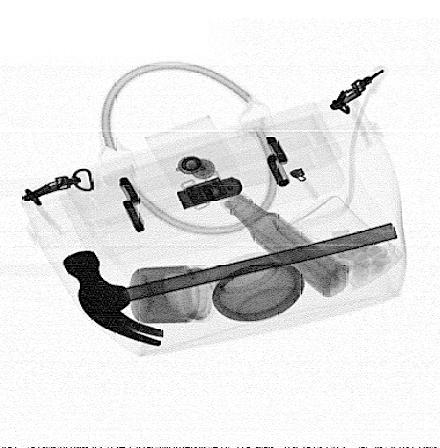Hammer: (61, 222, 400, 348)
